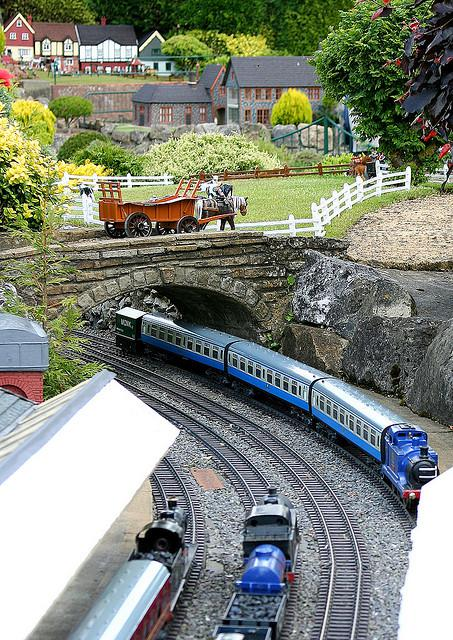Train: (115, 306, 442, 518), (63, 497, 193, 640), (211, 486, 302, 640)
